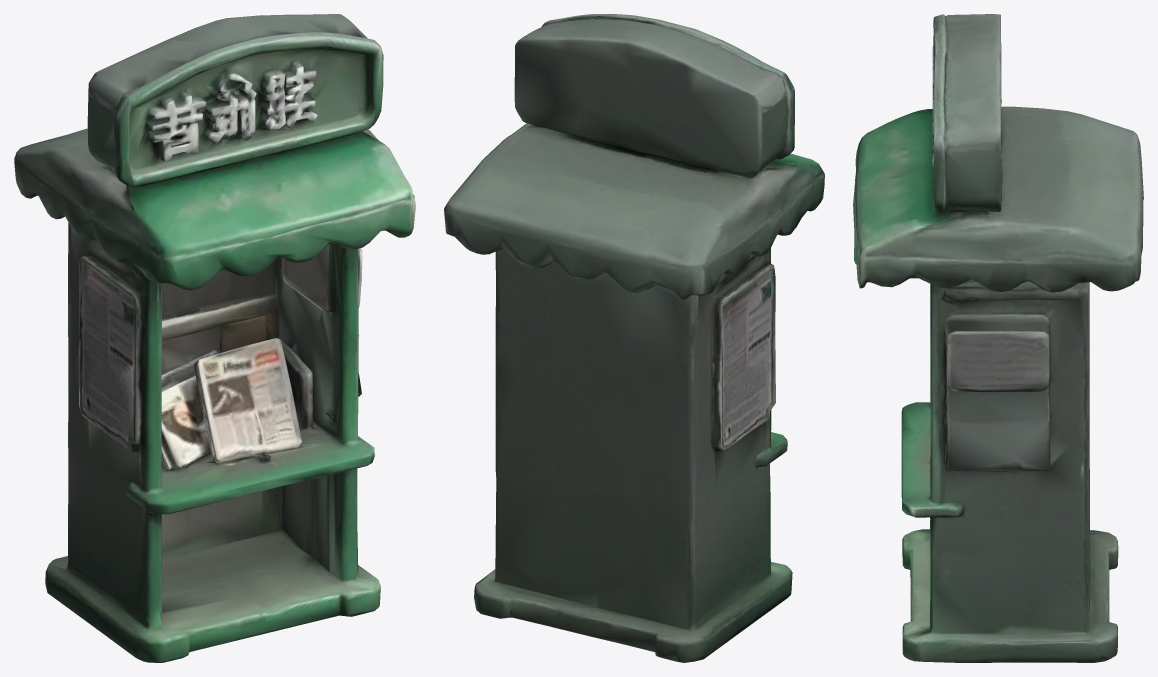
Rendered from newsstand.glb.
3 views of the same model, side by side, from view 1: azimuth 30°, elevation 25°; view 2: azimuth 150°, elevation 25°; view 3: azimuth 270°, elevation 25° (orthographic). The views are drawn at different scales.
Parts seen in each view (by area): view 1: tripo_node_fe4b2369-0ecf-4202-9bbf-0f747309e91b; view 2: tripo_node_fe4b2369-0ecf-4202-9bbf-0f747309e91b; view 3: tripo_node_fe4b2369-0ecf-4202-9bbf-0f747309e91b.
Boxes of the visible parts, bbox=[...] form: tripo_node_fe4b2369-0ecf-4202-9bbf-0f747309e91b: bbox=[14, 14, 415, 662]; tripo_node_fe4b2369-0ecf-4202-9bbf-0f747309e91b: bbox=[444, 14, 824, 662]; tripo_node_fe4b2369-0ecf-4202-9bbf-0f747309e91b: bbox=[853, 14, 1143, 662].
Size of the model in its own units: 0.4874 by 0.9787 by 0.4609.
1 material, 1 textured.
